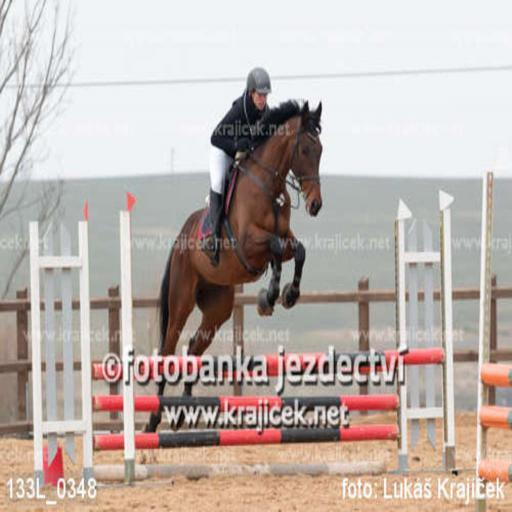horse: (138, 92, 323, 457)
